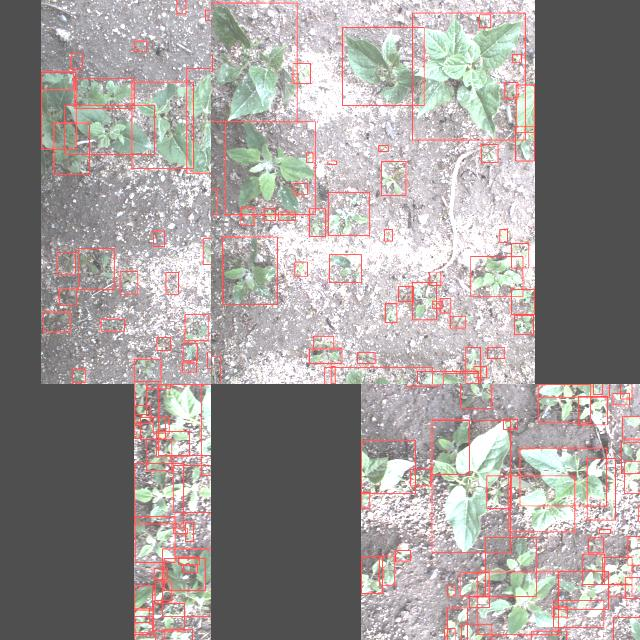crop: (412, 12, 526, 140), (432, 420, 511, 552), (211, 2, 296, 121), (342, 27, 424, 105), (131, 82, 193, 168), (520, 448, 606, 506), (64, 106, 154, 154), (158, 384, 211, 455), (508, 476, 574, 532), (361, 440, 415, 494), (40, 72, 76, 150), (186, 68, 211, 173), (586, 458, 616, 520), (516, 85, 534, 132), (361, 492, 369, 508)
weed: (225, 122, 315, 215), (478, 572, 558, 634), (222, 237, 278, 305), (162, 548, 211, 615), (484, 538, 536, 596), (134, 464, 184, 524), (471, 256, 523, 296), (431, 420, 469, 474), (538, 384, 590, 422), (558, 571, 608, 609), (328, 192, 370, 236), (134, 516, 174, 562), (74, 78, 134, 108), (53, 124, 89, 174), (173, 465, 211, 512), (78, 248, 114, 290), (554, 600, 604, 628), (163, 558, 204, 590), (380, 160, 406, 196), (412, 282, 436, 320), (578, 396, 608, 426), (329, 255, 361, 283), (153, 603, 184, 631), (538, 384, 610, 396), (146, 439, 172, 471), (486, 476, 512, 508), (361, 556, 382, 594), (602, 558, 632, 584), (156, 432, 188, 456), (460, 384, 491, 408), (459, 572, 488, 596), (583, 554, 605, 584), (447, 607, 467, 640), (134, 358, 160, 382), (185, 314, 208, 341), (516, 127, 534, 161), (41, 72, 73, 90), (622, 442, 640, 474), (42, 312, 70, 332), (308, 348, 342, 364), (512, 290, 534, 314), (140, 417, 164, 439), (308, 208, 326, 236), (466, 347, 480, 383), (624, 461, 640, 492), (461, 624, 491, 640), (378, 556, 394, 584), (56, 252, 76, 274), (134, 586, 152, 610), (120, 272, 138, 294), (622, 417, 640, 439), (443, 373, 478, 384), (512, 244, 528, 268), (627, 536, 640, 565), (514, 316, 534, 334), (292, 64, 310, 84), (134, 384, 146, 414), (410, 469, 430, 486), (154, 582, 172, 600), (163, 629, 192, 640), (625, 577, 640, 598), (59, 288, 76, 306), (100, 319, 124, 331), (482, 144, 498, 162), (134, 405, 150, 423), (153, 416, 169, 434), (134, 617, 152, 633), (608, 584, 632, 596), (166, 272, 178, 294), (398, 286, 414, 302), (312, 336, 333, 348), (469, 596, 489, 608), (183, 344, 197, 361), (202, 238, 211, 264), (240, 208, 253, 226), (588, 538, 604, 552), (385, 304, 397, 322), (506, 82, 518, 100), (612, 393, 630, 405), (357, 352, 375, 363), (294, 262, 308, 276), (134, 608, 148, 622), (70, 53, 82, 69), (450, 316, 466, 328), (487, 348, 505, 358), (620, 384, 632, 399), (178, 557, 200, 565), (156, 338, 170, 350), (429, 272, 441, 286), (153, 568, 167, 580), (396, 550, 410, 562), (154, 231, 164, 247), (440, 298, 450, 314), (185, 522, 193, 542), (293, 183, 307, 194), (72, 370, 84, 382), (263, 208, 275, 220), (278, 212, 296, 220), (182, 362, 196, 372), (503, 419, 517, 429), (554, 607, 568, 617), (134, 40, 146, 51), (474, 367, 486, 378), (443, 628, 454, 640), (480, 15, 490, 28), (211, 188, 216, 214), (176, 0, 185, 14), (133, 634, 154, 640), (183, 565, 197, 573), (500, 230, 508, 242), (384, 229, 392, 241), (172, 528, 188, 534), (593, 384, 602, 394), (512, 54, 522, 62), (447, 586, 455, 596), (331, 366, 335, 384), (134, 426, 140, 438), (207, 352, 211, 368), (205, 10, 211, 20), (378, 145, 388, 151), (306, 153, 312, 163), (432, 302, 442, 308), (600, 528, 610, 534), (328, 161, 337, 165)
